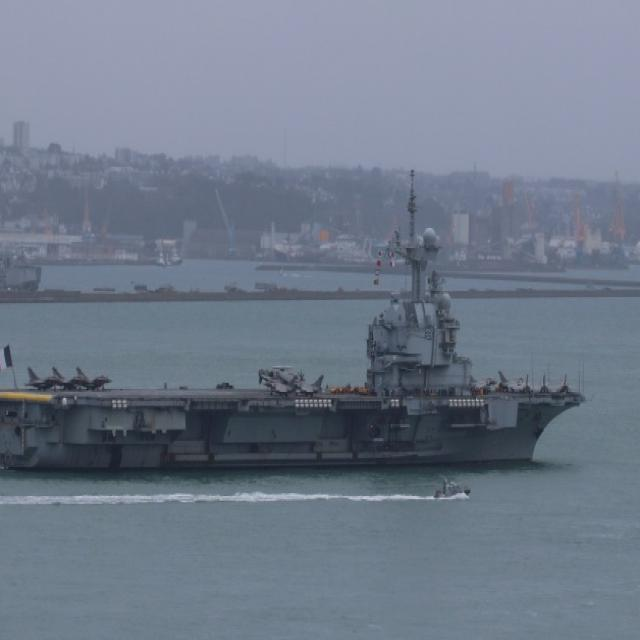Portanaves: (1, 157, 594, 479)
